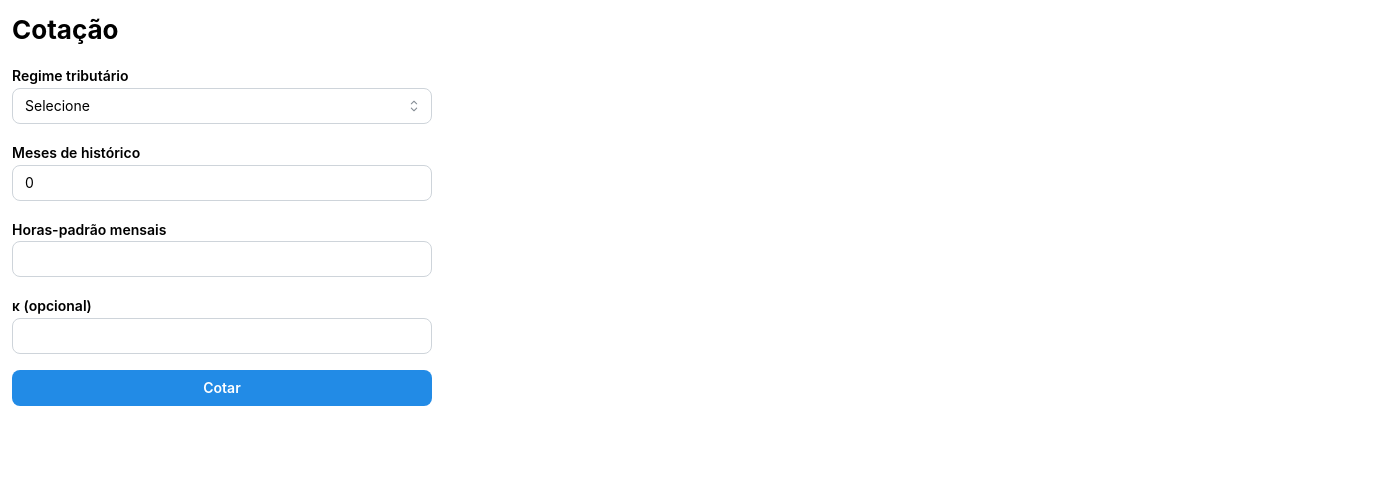
Test case: cotação › sem política publicada avisa em vez de mostrar preço
Select "Lucro Presumido" in the dropdown labelled "Regime tributário" at (222, 106), box [12, 88, 432, 124]
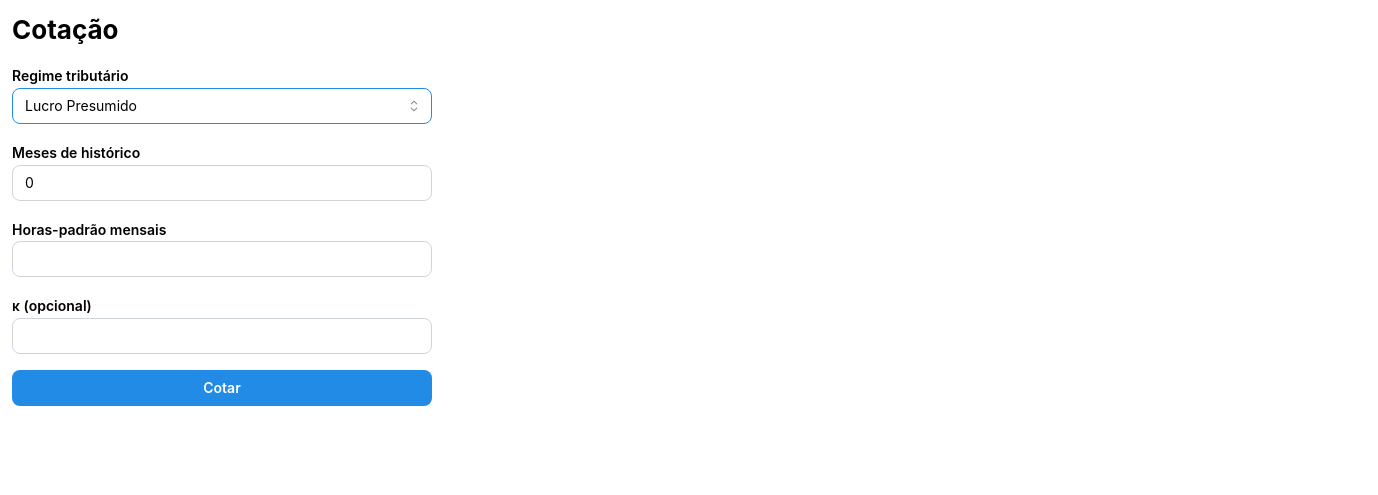
Click the button "Cotar" at (222, 388), box [12, 370, 432, 406]
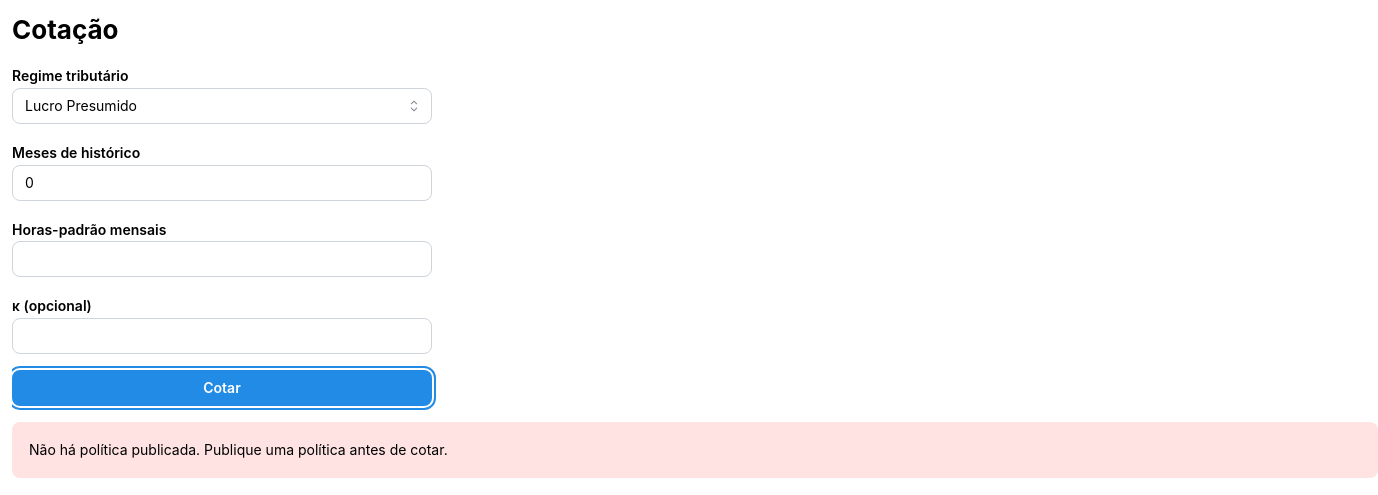
Check: the message shows "política", box [29, 441, 448, 458]
